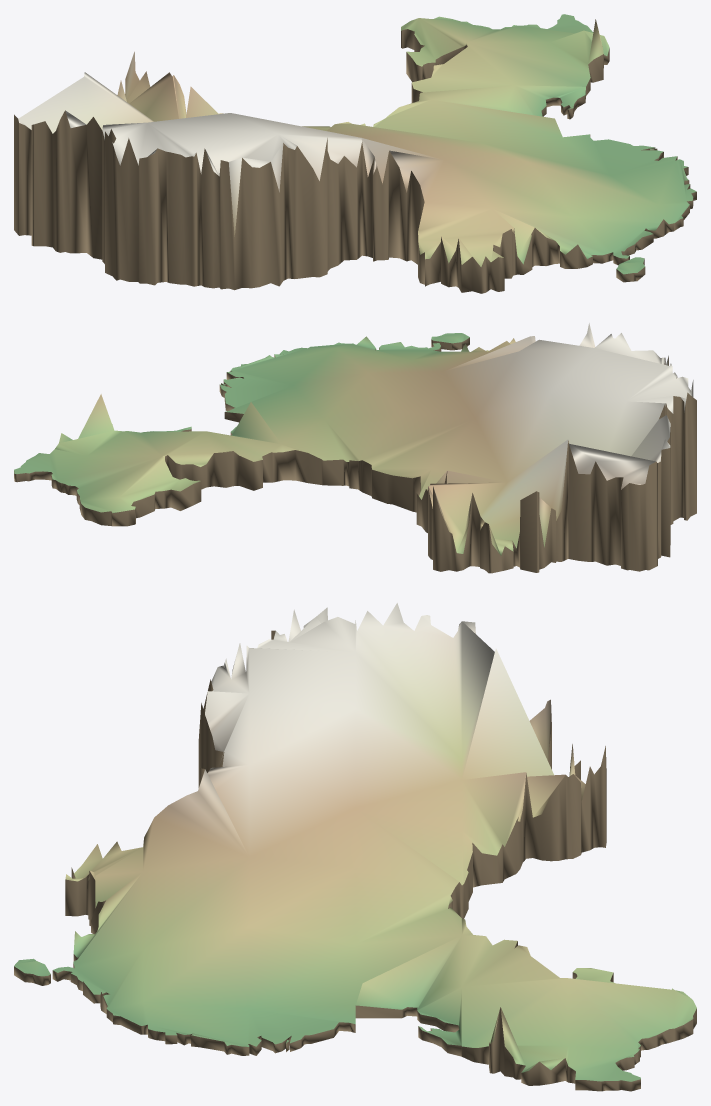
The model's file is CHN.glb.
3 views of the same model, one above another, from view 1: azimuth 30°, elevation 25°; view 2: azimuth 150°, elevation 25°; view 3: azimuth 270°, elevation 25° (orthographic). The views are drawn at different scales.
Parts seen in each view (by area): view 1: CHN; view 2: CHN; view 3: CHN.
Part boxes in pixels (x1,y1,x2,y2): CHN: (14,14,696,293); CHN: (14,323,696,573); CHN: (14,603,696,1091).
Bounding box in the file's own units: 1.55 × 0.338 × 1.31.
